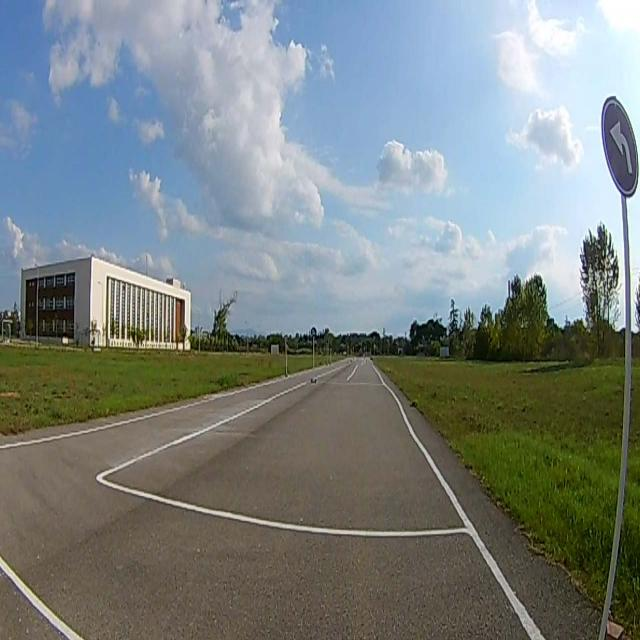sol: (601, 94, 639, 195)
